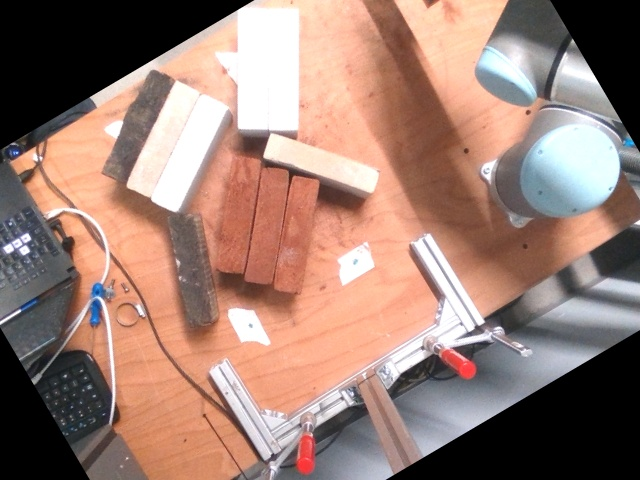brick-side: (152, 96, 222, 207), (127, 84, 194, 194), (103, 71, 170, 178), (266, 136, 373, 188), (245, 168, 288, 282), (273, 178, 316, 291), (217, 157, 258, 271), (169, 218, 208, 321), (237, 13, 265, 126), (270, 14, 295, 126)
